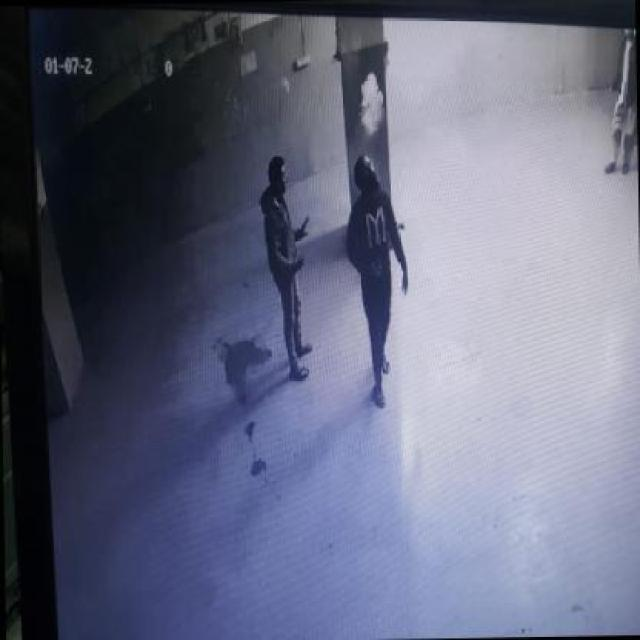fire: (354, 64, 386, 140)
